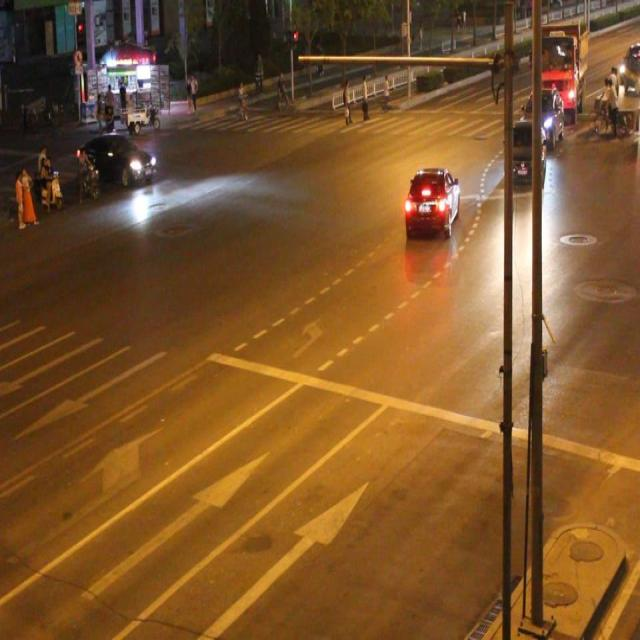car: (404, 167, 460, 240), (504, 120, 545, 186)
